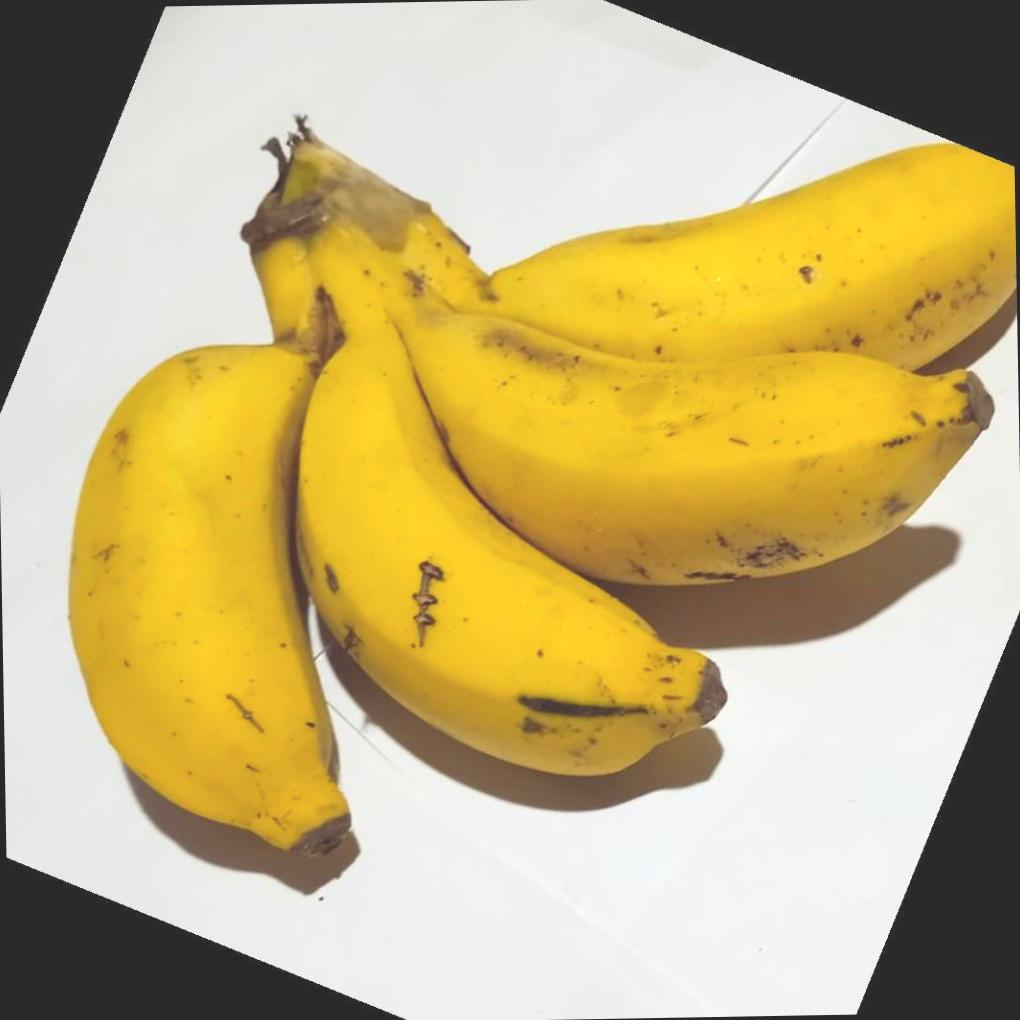Banana Ripe: (60, 73, 1020, 909), (358, 108, 1020, 656), (252, 179, 730, 856), (38, 215, 349, 924)
